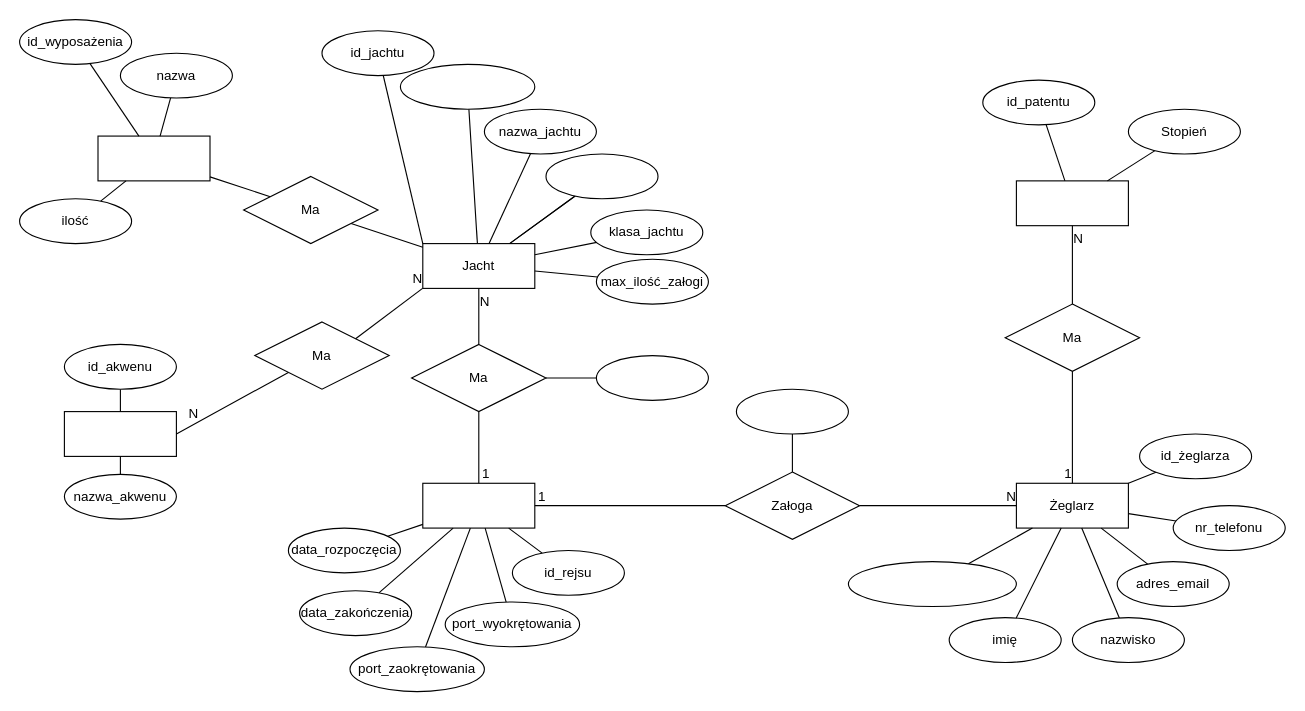
The diagram is 1305 pixels wide and 711 high, and some of its shapes have lost their labels. The centre of each missing label's shape, as x and y in pixels:
adres_zamieszkania: pixel 931 583
Akwen: pixel 119 433
Funkcja: pixel 791 411
ilość_załogi: pixel 651 377
numer_rejestracyjny: pixel 467 86
Patent: pixel 1071 203
Rejs: pixel 478 505
rodzaj_jachtu: pixel 601 176
Wyposażenie: pixel 153 158
